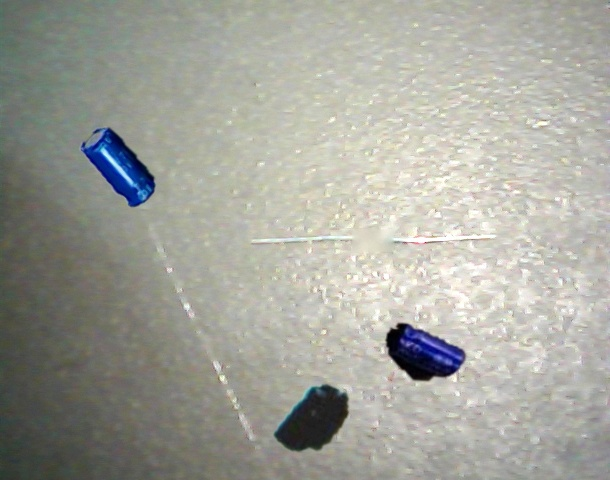capacitor: (80, 127, 156, 207), (274, 384, 349, 452), (386, 323, 466, 381)
